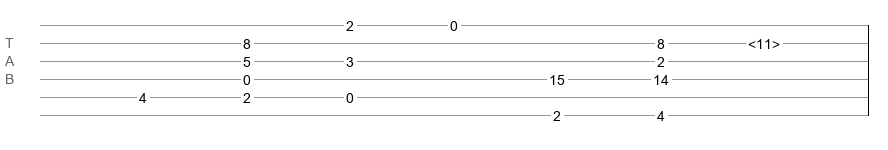0: (243, 72, 251, 82), (346, 90, 354, 100), (450, 18, 458, 28)
14: (653, 72, 669, 82)
15: (549, 72, 565, 82)
2: (243, 90, 251, 100), (346, 18, 354, 28), (553, 108, 561, 118), (657, 54, 665, 64)
3: (346, 54, 354, 64)
4: (139, 90, 147, 100), (657, 108, 665, 118)
5: (243, 54, 251, 64)
8: (243, 36, 251, 46), (657, 36, 665, 46)
harmonic: (748, 36, 780, 46)
